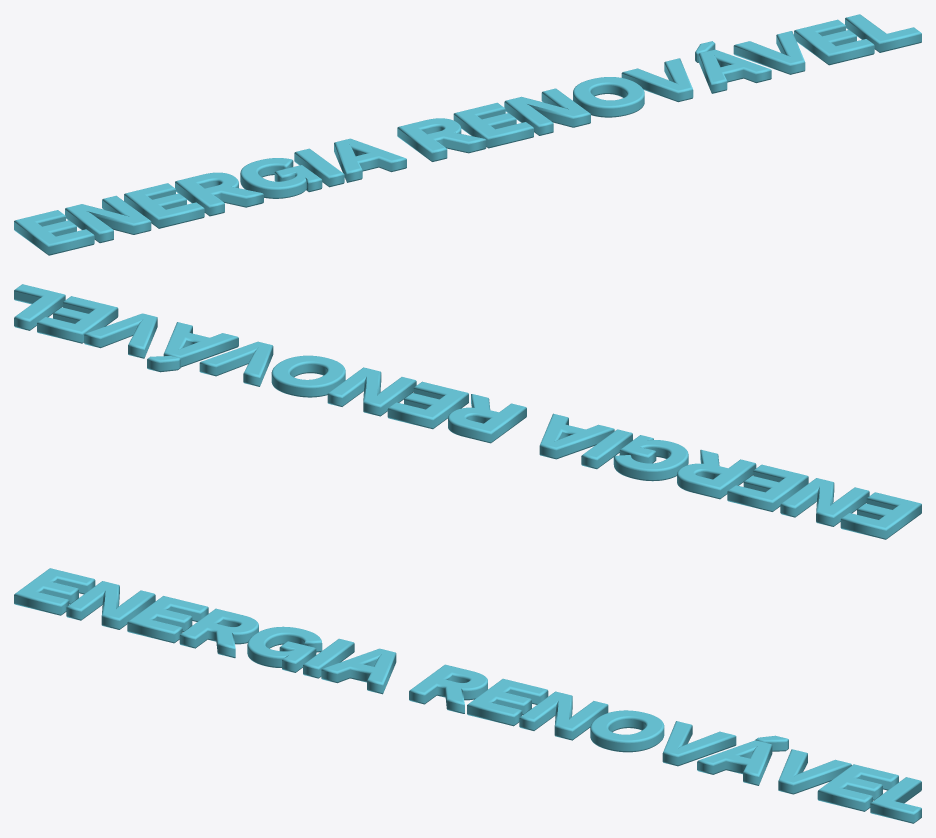
3 views of the same model, one above another, from view 1: azimuth 30°, elevation 25°; view 2: azimuth 150°, elevation 25°; view 3: azimuth 330°, elevation 25° (orthographic). The views are drawn at different scales.
Visible parts, largest first — view 1: Text2; view 2: Text2; view 3: Text2.
Boxes of the visible parts, bbox=[...] form: Text2: bbox=[14, 14, 921, 255]; Text2: bbox=[14, 284, 921, 539]; Text2: bbox=[14, 568, 921, 823].
Size of the model in its own units: 9.56 by 0.12 by 0.8431.
